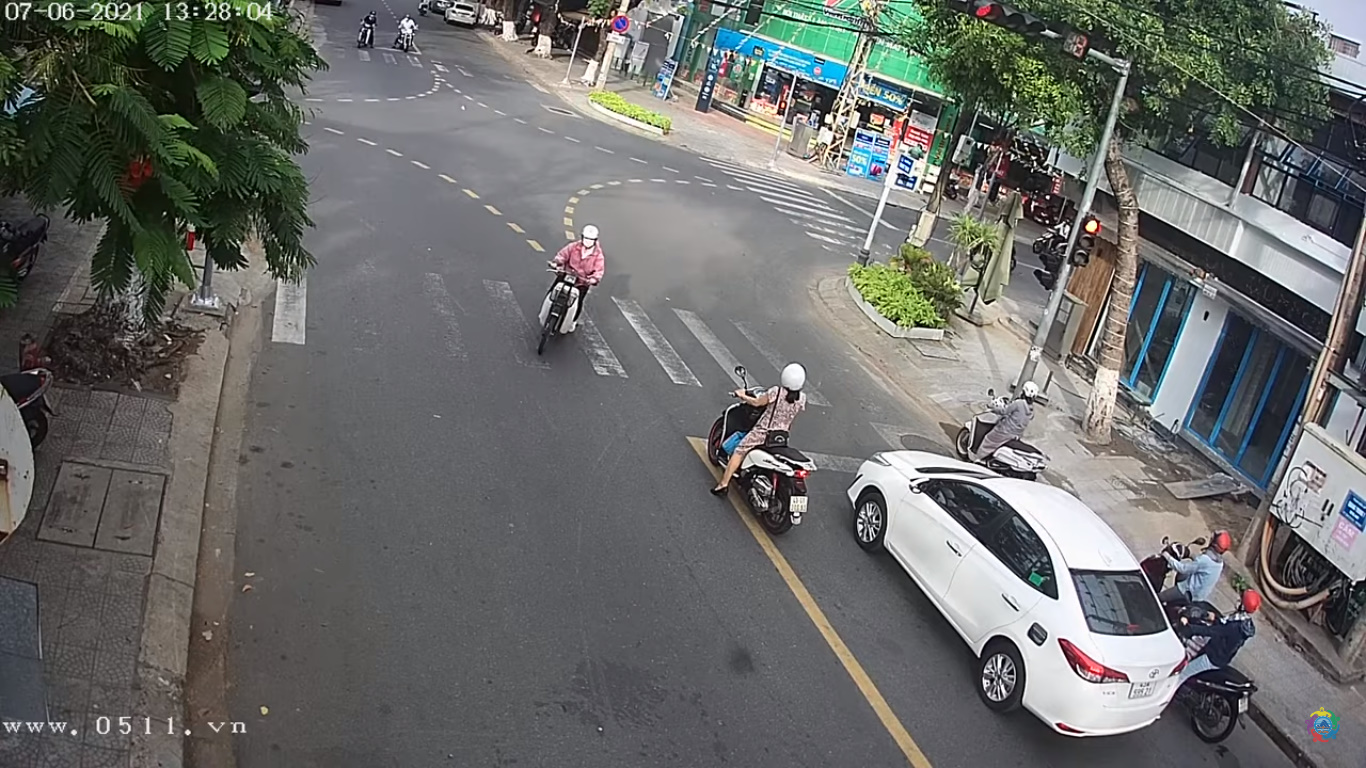motorbike: (534, 231, 608, 344)
